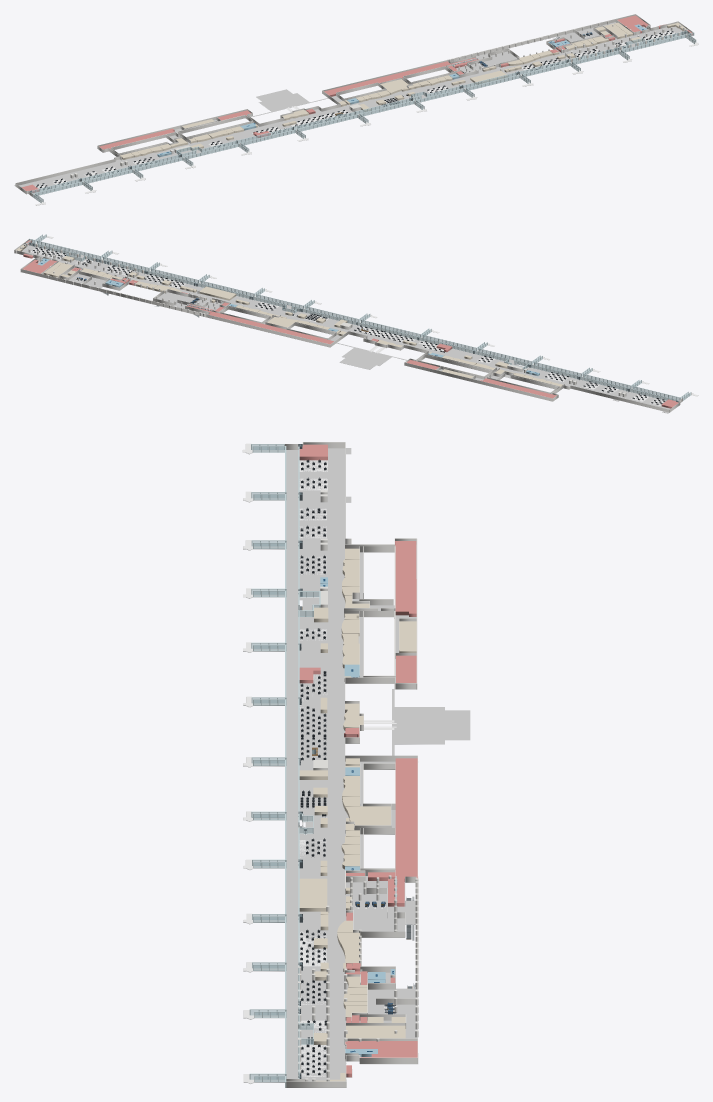
Rendered from t1-lantai-2.glb.
3 renders of one model, top to bottom at view 1: azimuth 30°, elevation 25°; view 2: azimuth 150°, elevation 25°; view 3: azimuth 270°, elevation 25°, orthographic. The views are drawn at different scales.
Visible parts, largest first — view 1: FLOOR_JUANDA_FF8, XRAY, tembok_pillar_3, area_merah_15, tembok_pillar_7, area_merah_2, tembok_pillar_2; view 2: FLOOR_JUANDA_FF8, XRAY, tembok_pillar_3, pavlon, area_merah_15, tembok_pillar_2, tembok_pillar, tembok_pillar_7, area_merah_2, T1-FF-53; view 3: FLOOR_JUANDA_FF8, XRAY, area_merah_15, area_merah_2, area_merah_6, T1-FF-53.
Part boxes in pixels (x1,y1,x2,y2): FLOOR_JUANDA_FF8: (14,22,698,205); XRAY: (21,26,691,204); tembok_pillar_3: (322,14,635,91); area_merah_15: (324,61,450,96); tembok_pillar_7: (16,159,115,185); area_merah_2: (99,128,174,149); tembok_pillar_2: (98,109,247,146); FLOOR_JUANDA_FF8: (22,237,698,412); XRAY: (27,246,669,413); tembok_pillar_3: (20,269,330,347); pavlon: (339,347,391,366); area_merah_15: (208,311,333,344); tembok_pillar_2: (404,362,552,401); tembok_pillar: (90,286,206,317); tembok_pillar_7: (570,385,669,412); area_merah_2: (480,378,556,398); T1-FF-53: (199,286,236,300); FLOOR_JUANDA_FF8: (242,444,470,1083); XRAY: (243,448,418,1087); area_merah_15: (395,758,417,881); area_merah_2: (395,541,416,616); area_merah_6: (345,1041,417,1057); T1-FF-53: (299,878,327,911).
Bounding box in the file's own units: 650 × 5.9 × 97.14.
